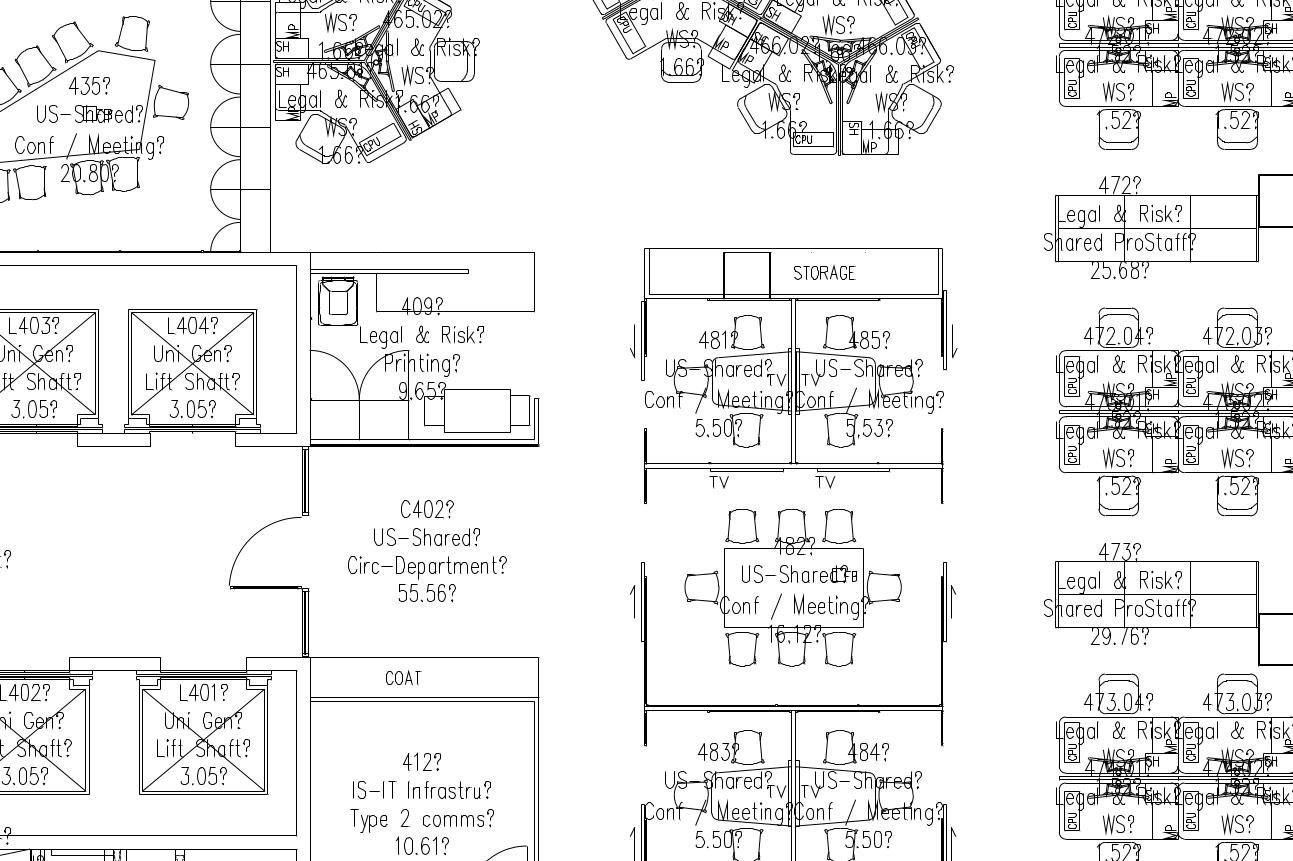door: (220, 510, 303, 595), (308, 349, 360, 403)
